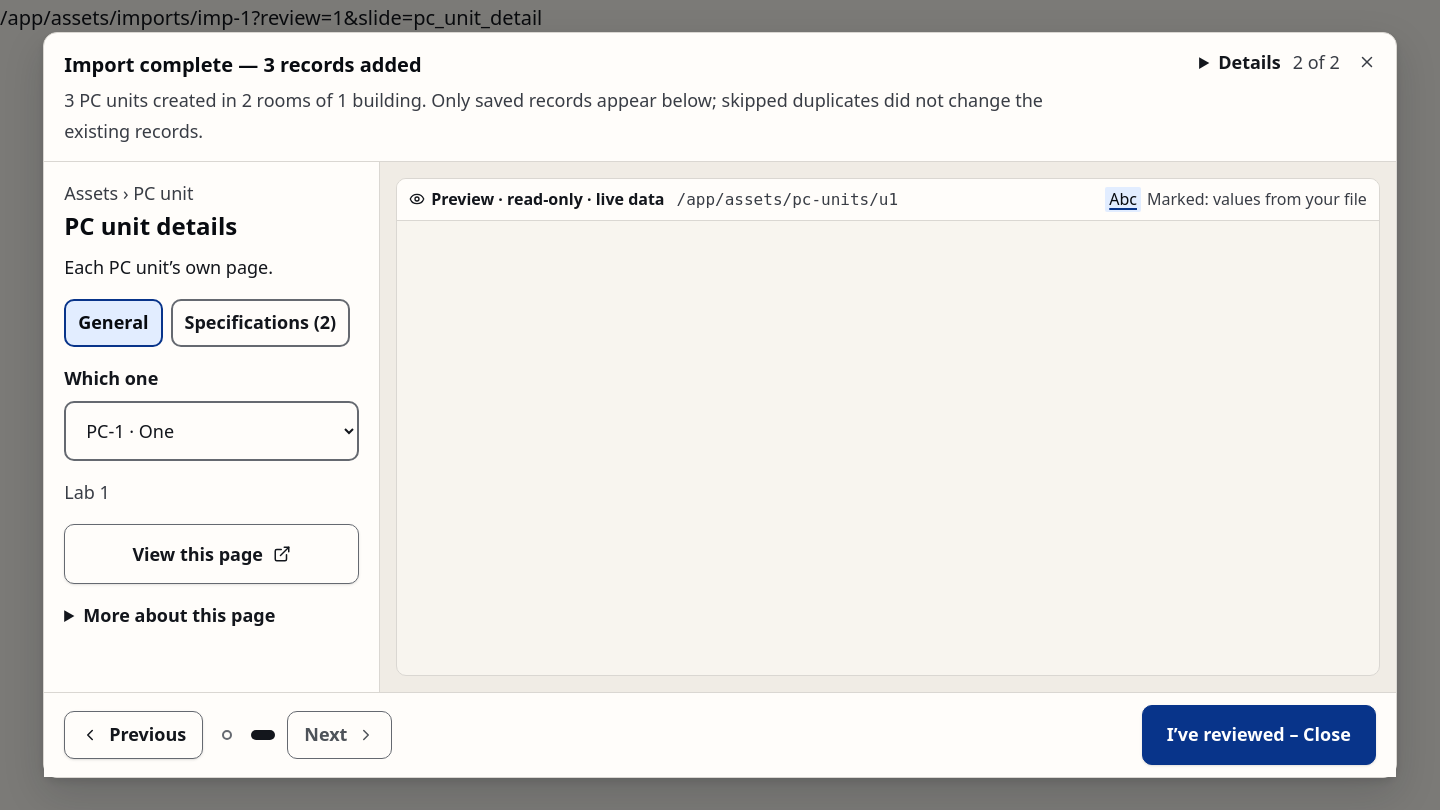
Test: ImportReviewSlideshow › keeps its place in the URL, and previews the chosen view and instance
The width and height of the screenshot is (1440, 810).
Click the button "Specifications (2)": (260, 323) [170,299,350,347]
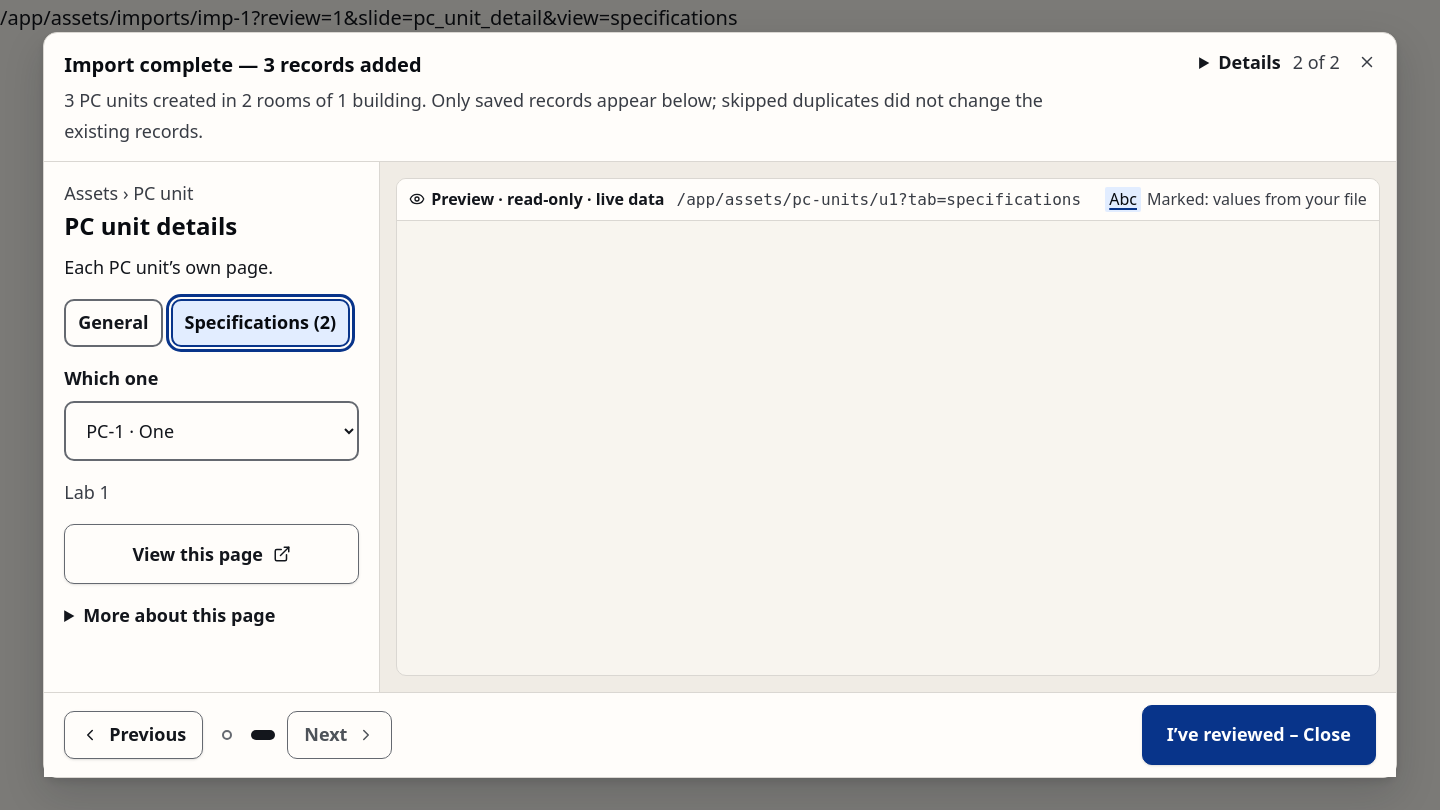
Select "PC-2 · Two" in the dropdown labelled "Which one": (212, 431) [64,401,359,461]
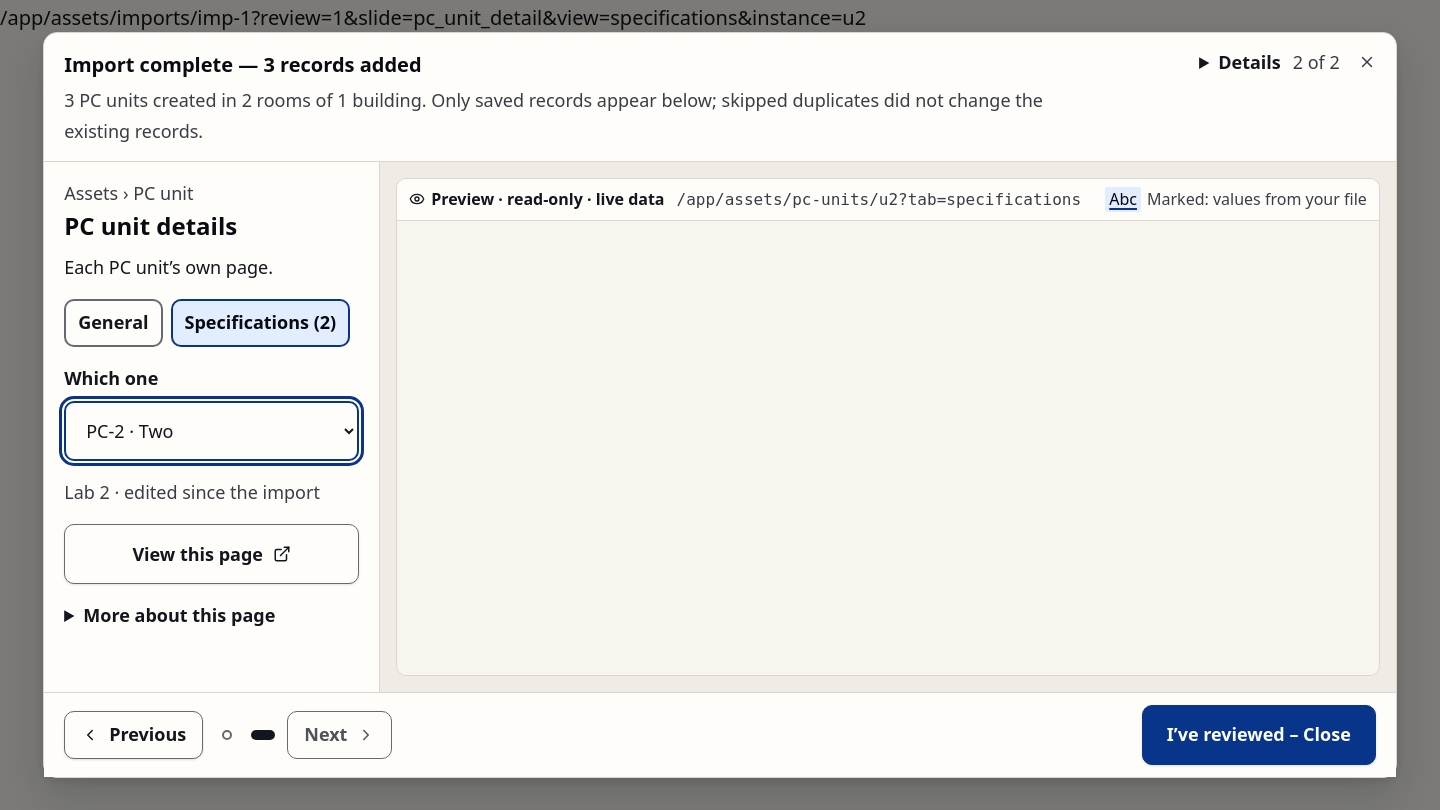
Expected: the text with test id "where" shows "view=specifications", [0,4,866,31]
Expected: the text "Lab 2 · edited since the import" is shown, [64,477,359,508]
Expected: the text "/app/assets/pc-units/u2?tab=specifications" is shown, [676,187,1081,212]
